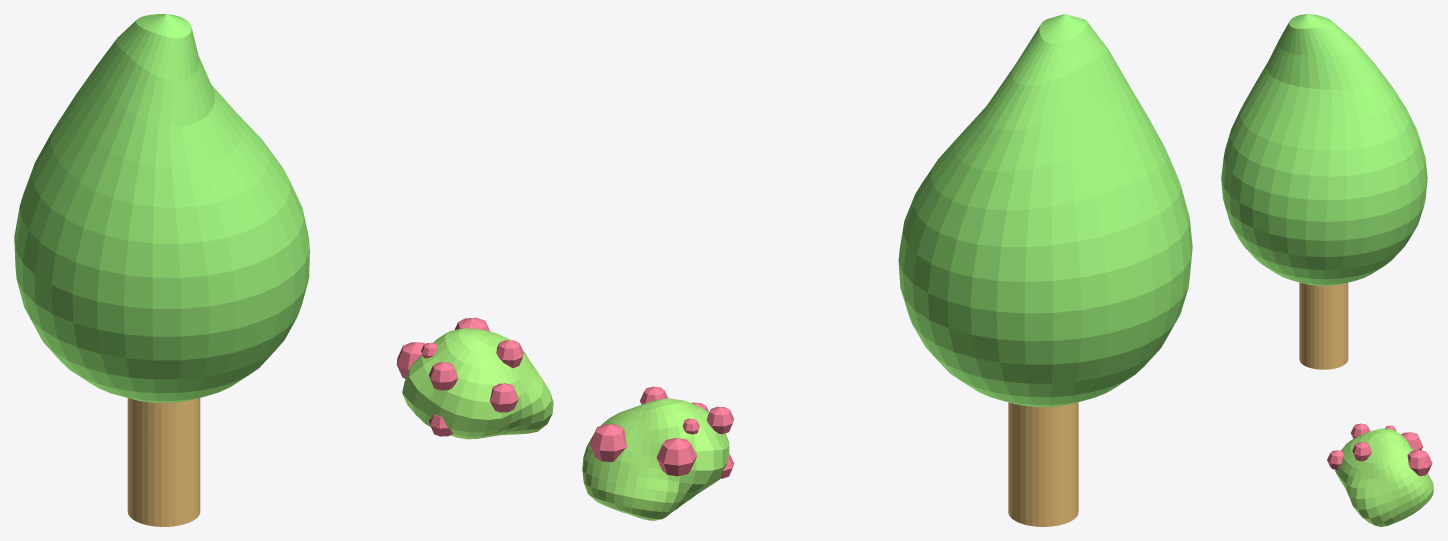
The model's file is Vegetation.fbx.
3 renders of one model, left to right at view 1: azimuth 30°, elevation 25°; view 2: azimuth 150°, elevation 25°; view 3: azimuth 270°, elevation 25°, orthographic. The views are drawn at different scales.
Parts seen in each view (by area): view 1: Tree, Bush; view 2: Tree, Bush; view 3: Tree, Bush.
Boxes of the visible parts, bbox=[...] form: Tree: bbox=[14, 14, 309, 526]; Bush: bbox=[396, 317, 553, 439]; Tree: bbox=[898, 14, 1192, 526]; Bush: bbox=[582, 386, 734, 520]; Tree: bbox=[1221, 14, 1427, 369]; Bush: bbox=[1327, 423, 1433, 526].
Size of the model in its own units: 1011 by 975 by 500.
